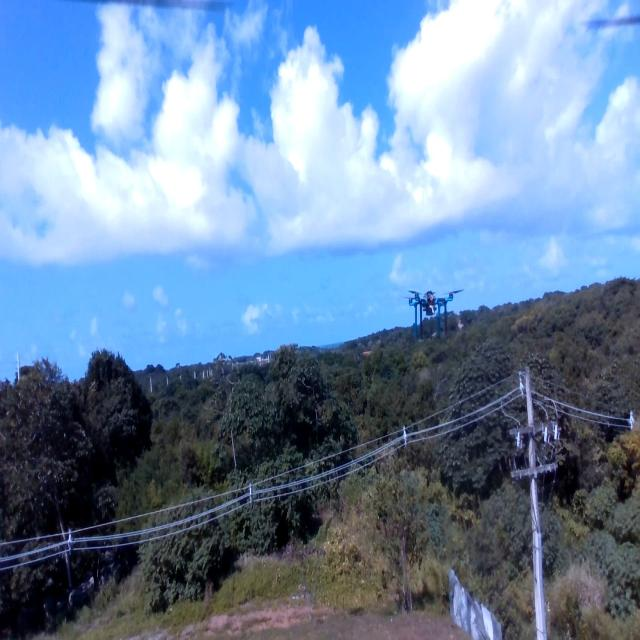-uav-: (402, 280, 462, 345)
